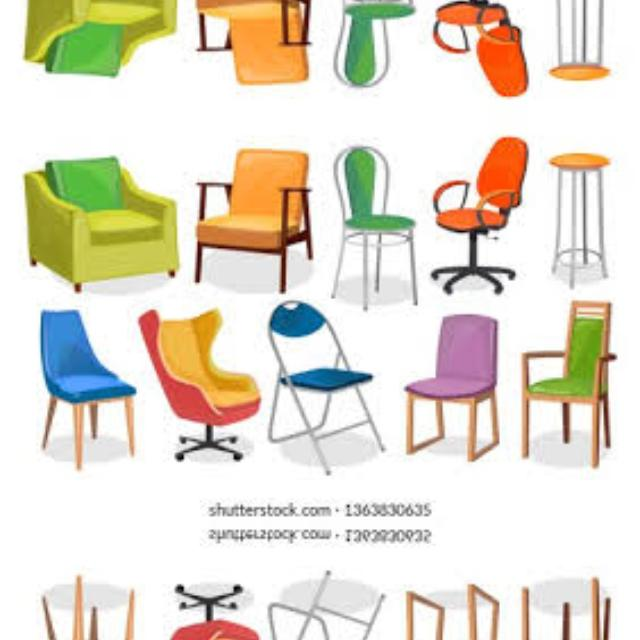obstacle: (260, 292, 392, 484), (418, 119, 544, 307), (15, 293, 137, 475), (318, 128, 414, 306), (408, 305, 498, 485), (417, 0, 544, 113), (260, 560, 392, 640), (318, 0, 413, 104), (15, 569, 137, 640), (408, 559, 497, 640)
